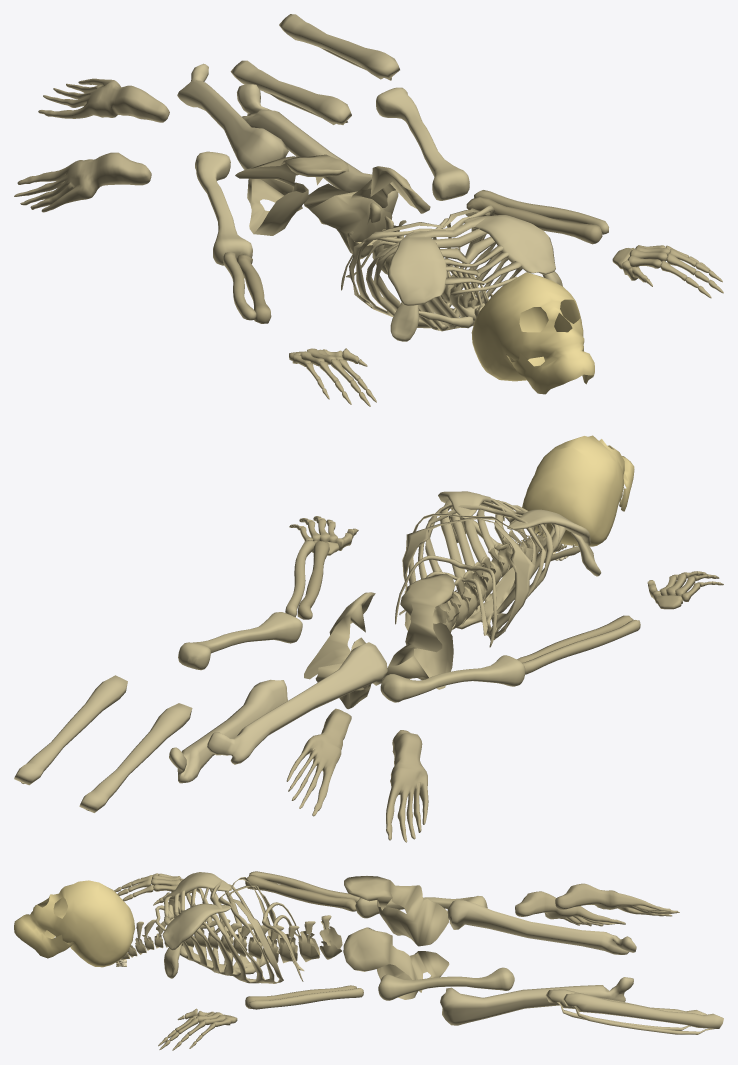
Rendered from skelling.glb.
The picture shows the model from 3 angles, top to bottom: view 1: azimuth 30°, elevation 25°; view 2: azimuth 150°, elevation 25°; view 3: azimuth 270°, elevation 25°; orthographic projection. The views are drawn at different scales.
Visible parts, largest first — view 1: Skull, Ilium, Rib Cage, Clavicle And Shoulder, Feet, Femur, Humerus, Tibia, Hands, Ulna, Radius, Spine2; view 2: Rib Cage, Femur, Skull, Ilium, Feet, Humerus, Tibia, Spine2, Clavicle And Shoulder, Hands, Radius, Ulna; view 3: Ilium, Skull, Femur, Rib Cage, Spine2, Feet, Tibia, Humerus, Clavicle And Shoulder, Hands, Ulna, Radius.
Part boxes in pixels (<box>): Skull: <box>471,272,594,394</box>; Ilium: <box>235,154,430,253</box>; Rib Cage: <box>341,205,522,331</box>; Clavicle And Shoulder: <box>387,215,562,341</box>; Feet: <box>14,78,169,212</box>; Femur: <box>177,63,398,215</box>; Humerus: <box>195,87,469,265</box>; Tibia: <box>230,14,399,124</box>; Hands: <box>289,245,723,406</box>; Ulna: <box>236,196,602,323</box>; Radius: <box>223,190,608,320</box>; Spine2: <box>347,202,492,317</box>; Rib Cage: <box>395,498,565,647</box>; Femur: <box>169,642,387,783</box>; Skull: <box>522,435,634,546</box>; Ilium: <box>304,573,454,709</box>; Feet: <box>286,708,428,842</box>; Humerus: <box>178,612,525,702</box>; Tibia: <box>14,675,192,812</box>; Spine2: <box>404,524,566,632</box>; Clavicle And Shoulder: <box>438,491,601,576</box>; Hands: <box>289,516,723,609</box>; Radius: <box>285,540,640,674</box>; Ulna: <box>297,541,633,662</box>; Ilium: <box>343,876,449,999</box>; Skull: <box>14,880,135,967</box>; Femur: <box>440,900,636,1025</box>; Rib Cage: <box>155,877,304,983</box>; Spine2: <box>120,915,342,963</box>; Feet: <box>515,883,679,926</box>; Tibia: <box>545,989,723,1034</box>; Humerus: <box>355,896,514,1000</box>; Clavicle And Shoulder: <box>162,872,232,978</box>; Hands: <box>114,873,237,1050</box>; Ulna: <box>245,875,356,1008</box>; Radius: <box>249,871,363,1009</box>.
Size of the model in its own units: 1.6 by 0.5276 by 3.07.
